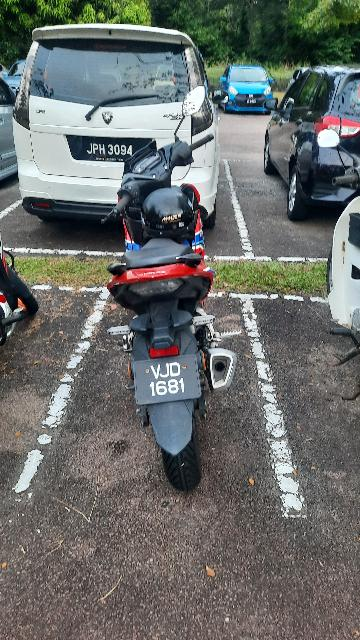License_Plate: (124, 350, 214, 409), (58, 128, 168, 167)
car: (13, 10, 224, 237), (259, 61, 360, 227), (224, 60, 274, 121)
motorcycle: (87, 80, 251, 496)
